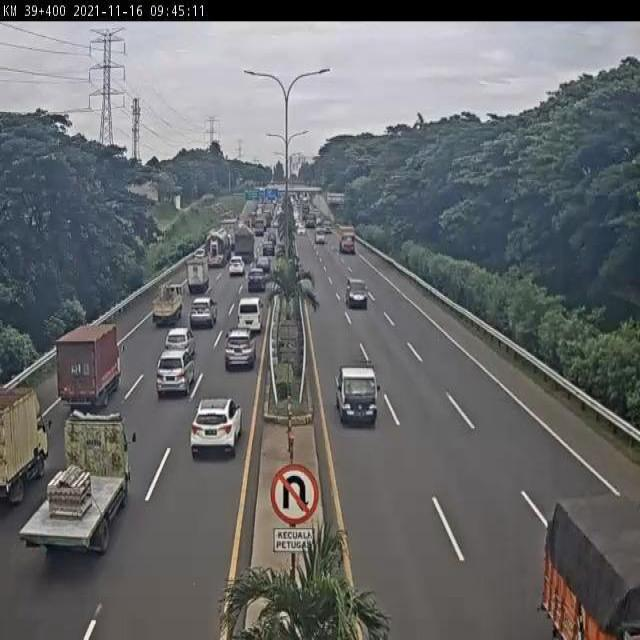car: (190, 397, 241, 456), (335, 364, 378, 425), (156, 350, 195, 394), (223, 331, 255, 373), (189, 295, 216, 328), (344, 276, 370, 309), (236, 299, 262, 332), (165, 328, 190, 353), (247, 268, 268, 293), (227, 256, 246, 276)
small truck: (0, 382, 52, 502), (57, 321, 117, 408), (150, 284, 180, 331), (187, 260, 209, 293)
truck-m-: (19, 416, 133, 547)
